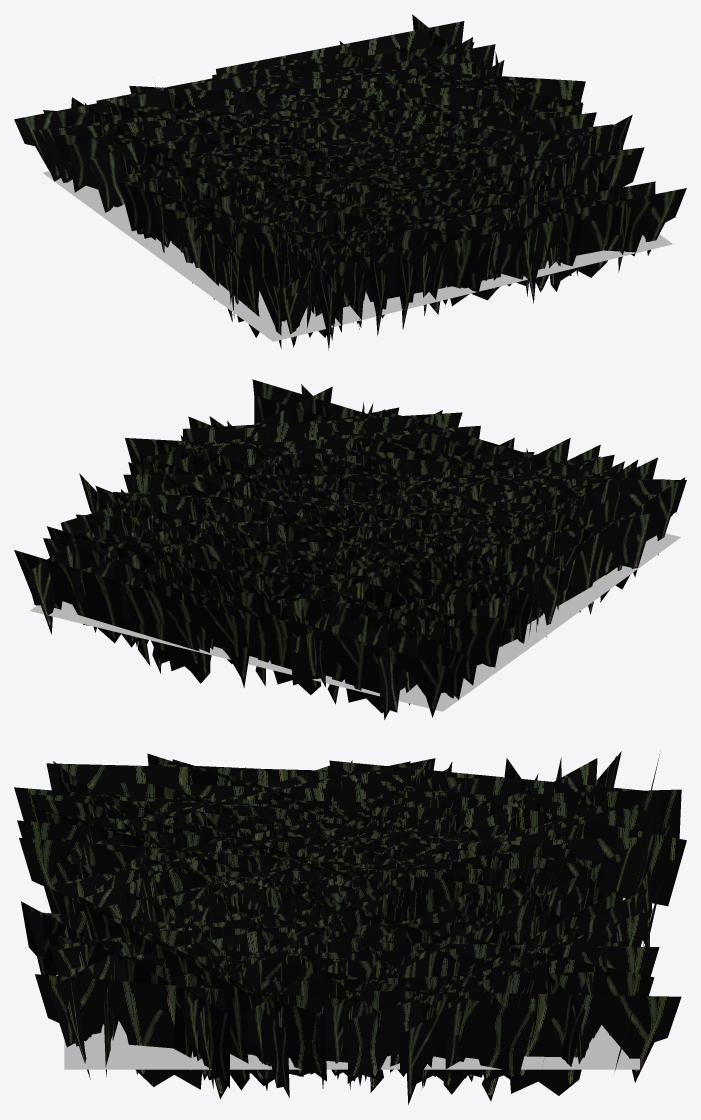
The model's file is grass_5.fbx.
3 views of the same model, one above another, from view 1: azimuth 30°, elevation 25°; view 2: azimuth 150°, elevation 25°; view 3: azimuth 270°, elevation 25° (orthographic). The views are drawn at different scales.
Visible parts, largest first — view 1: Plane.015, Plane.008; view 2: Plane.015, Plane.008; view 3: Plane.015, Plane.008.
Boxes of the visible parts, x1,y1,x2,y2 form: Plane.015: [14, 14, 686, 349]; Plane.008: [42, 171, 672, 341]; Plane.015: [14, 379, 686, 719]; Plane.008: [30, 533, 680, 711]; Plane.015: [14, 751, 686, 1104]; Plane.008: [64, 897, 639, 1069].
Size of the model in its own units: 117 by 24.08 by 117.
